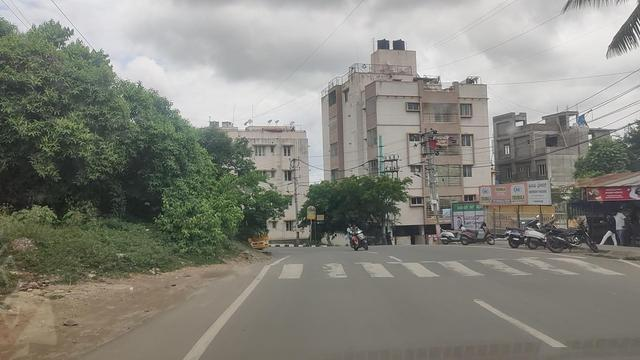SpeedBump: (270, 254, 593, 279)
